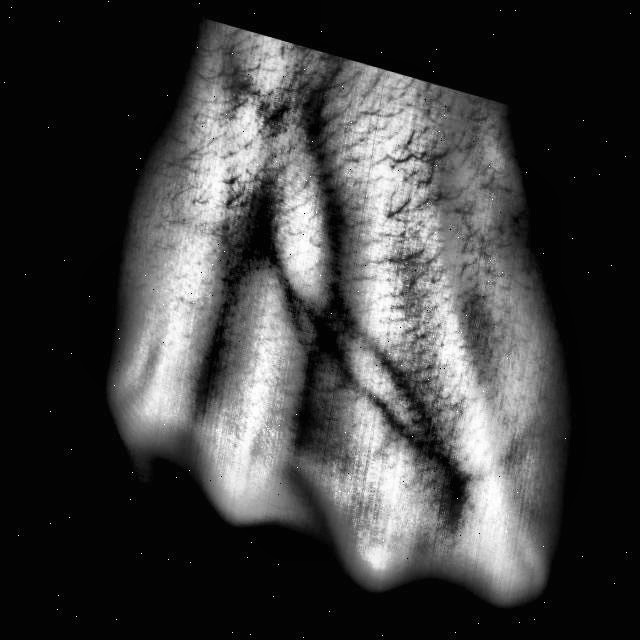Vein: (303, 94, 348, 294)
